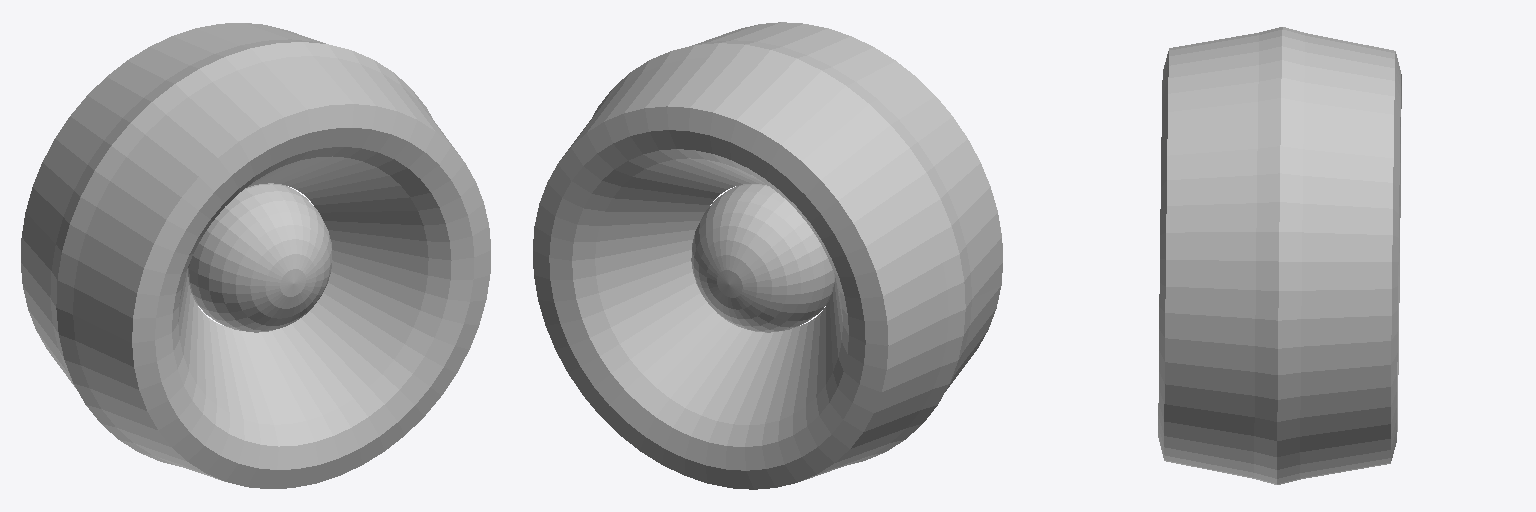
Rendered from rueda_trasera_izquierda.obj.
The picture shows the model from 3 angles: view 1: azimuth 30°, elevation 25°; view 2: azimuth 150°, elevation 25°; view 3: azimuth 270°, elevation 25°; orthographic projection.
Parts seen in each view (by area): view 1: Torus.002_Torus.004; view 2: Torus.002_Torus.004; view 3: Torus.002_Torus.004.
Boxes of the visible parts, box(x1,y1,x2,y2) form: Torus.002_Torus.004: box(21, 23, 490, 488); Torus.002_Torus.004: box(533, 22, 1002, 489); Torus.002_Torus.004: box(1158, 27, 1401, 484).
Bounding box in the file's own units: 2.5 × 2.5 × 1.32.